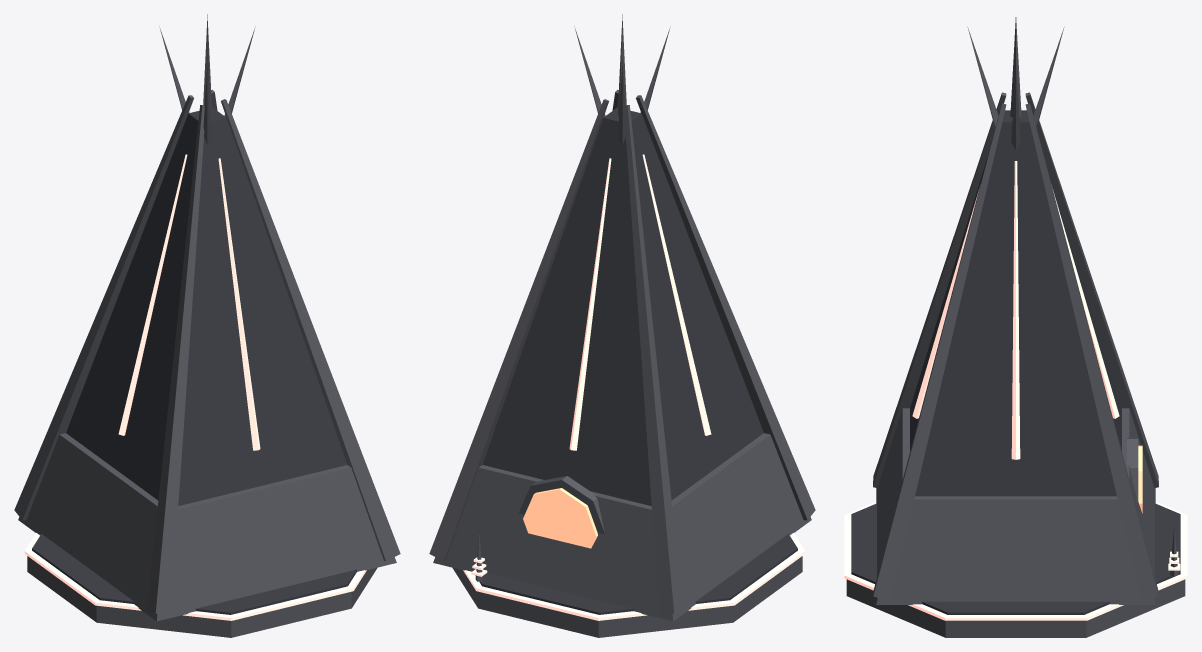
File: zone_high_3_t3.glb
3 renders of one model, left to right at view 1: azimuth 30°, elevation 25°; view 2: azimuth 150°, elevation 25°; view 3: azimuth 270°, elevation 25°, orthographic.
Visible parts, largest first — view 1: zone_high_3_t3; view 2: zone_high_3_t3; view 3: zone_high_3_t3.
Boxes of the visible parts, left/top/right/bottom form: zone_high_3_t3: left=14, top=14, right=400, bottom=637; zone_high_3_t3: left=429, top=14, right=815, bottom=637; zone_high_3_t3: left=844, top=17, right=1187, bottom=637.
Bounding box in the file's own units: 27.35 × 48.52 × 27.35.
